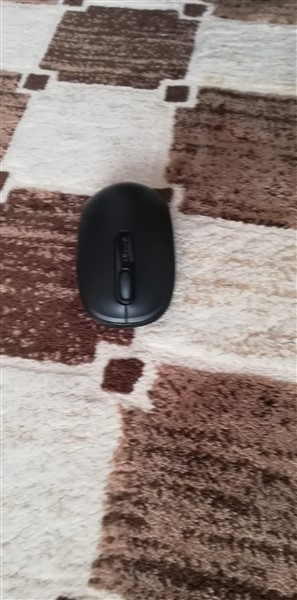mouse: (71, 179, 182, 333)
